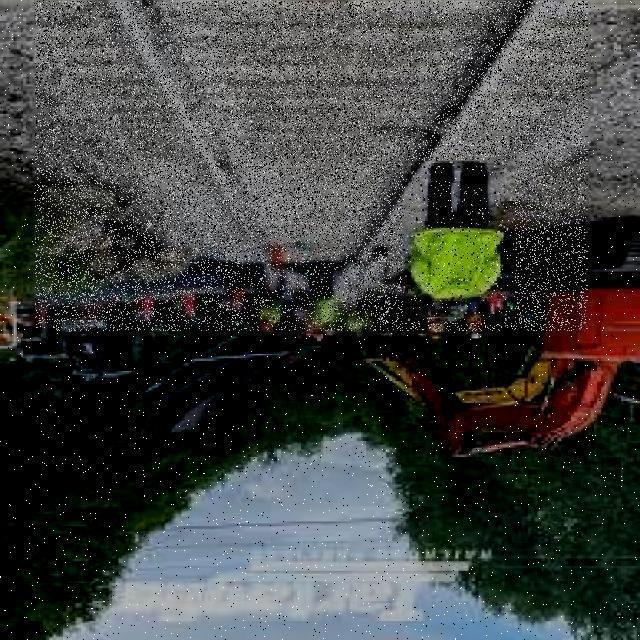rail: (36, 2, 588, 332)
